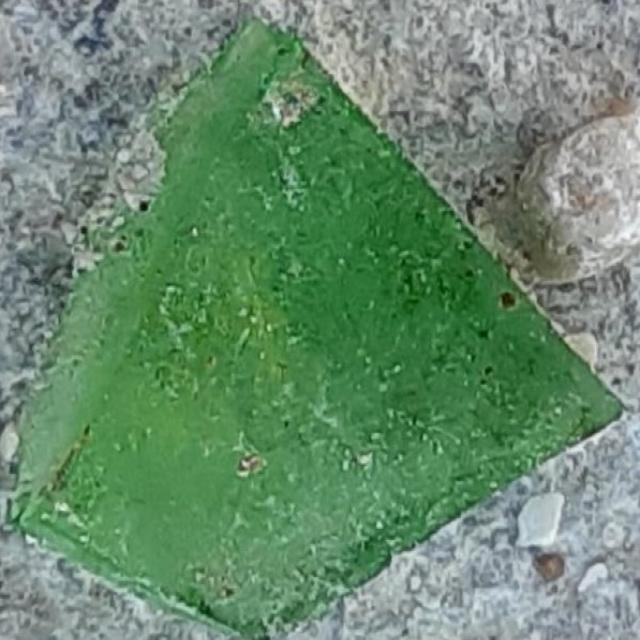Dry: (23, 244, 548, 512), (156, 97, 456, 245), (78, 498, 407, 574), (163, 553, 328, 640), (518, 340, 627, 445), (204, 8, 324, 100)
